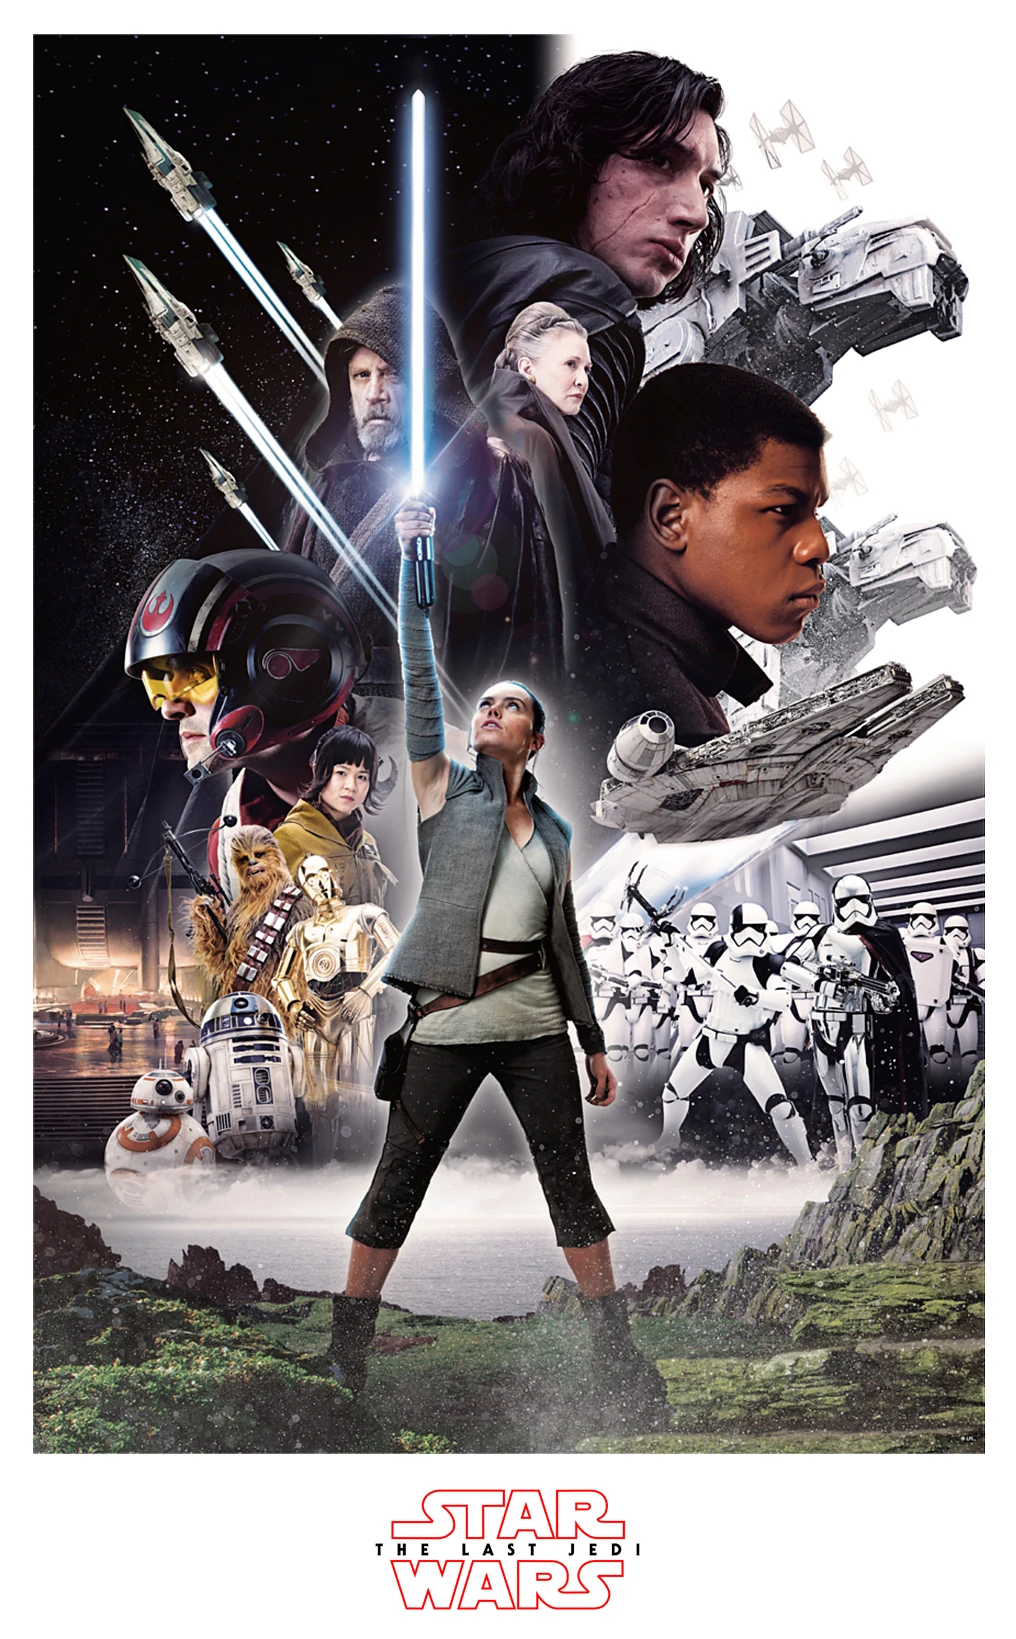Dalek: (399, 75, 442, 618)
